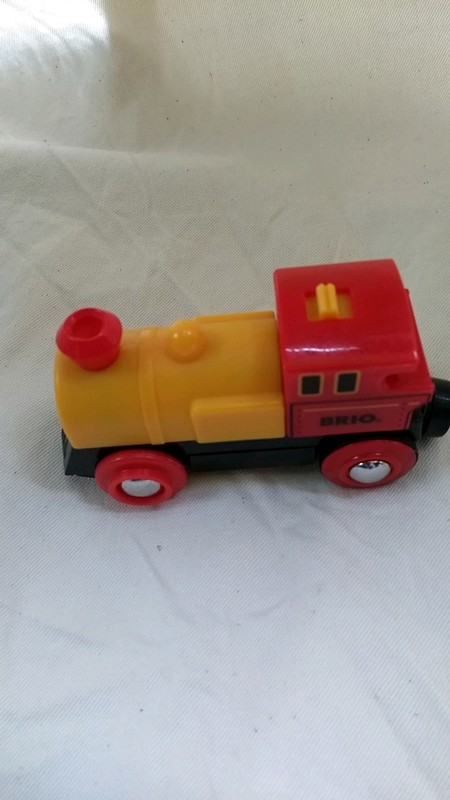brio: (46, 258, 447, 509)
